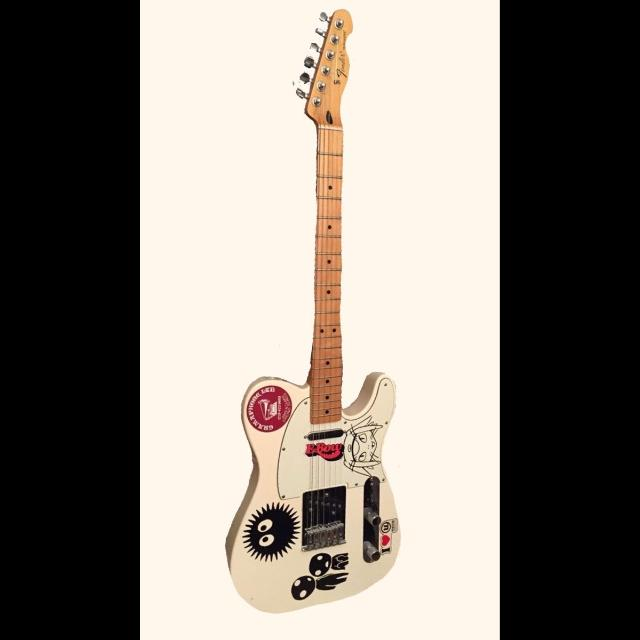Electric-Guitar: (166, 0, 427, 620)
